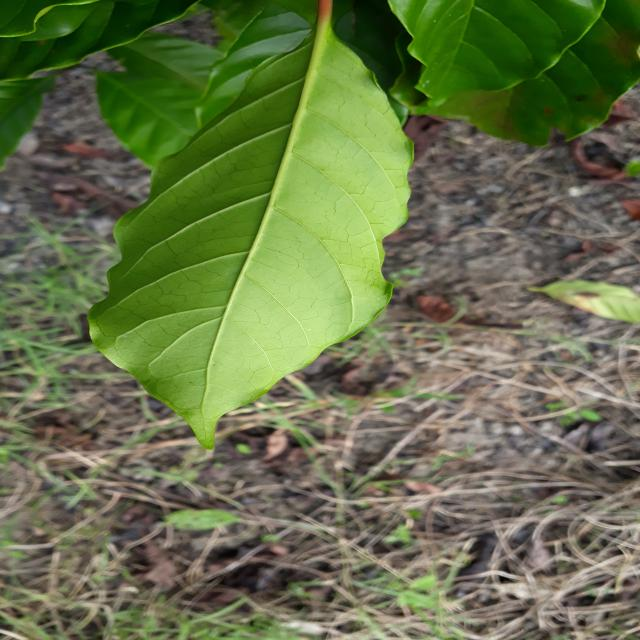Sanas: (88, 0, 414, 451)
